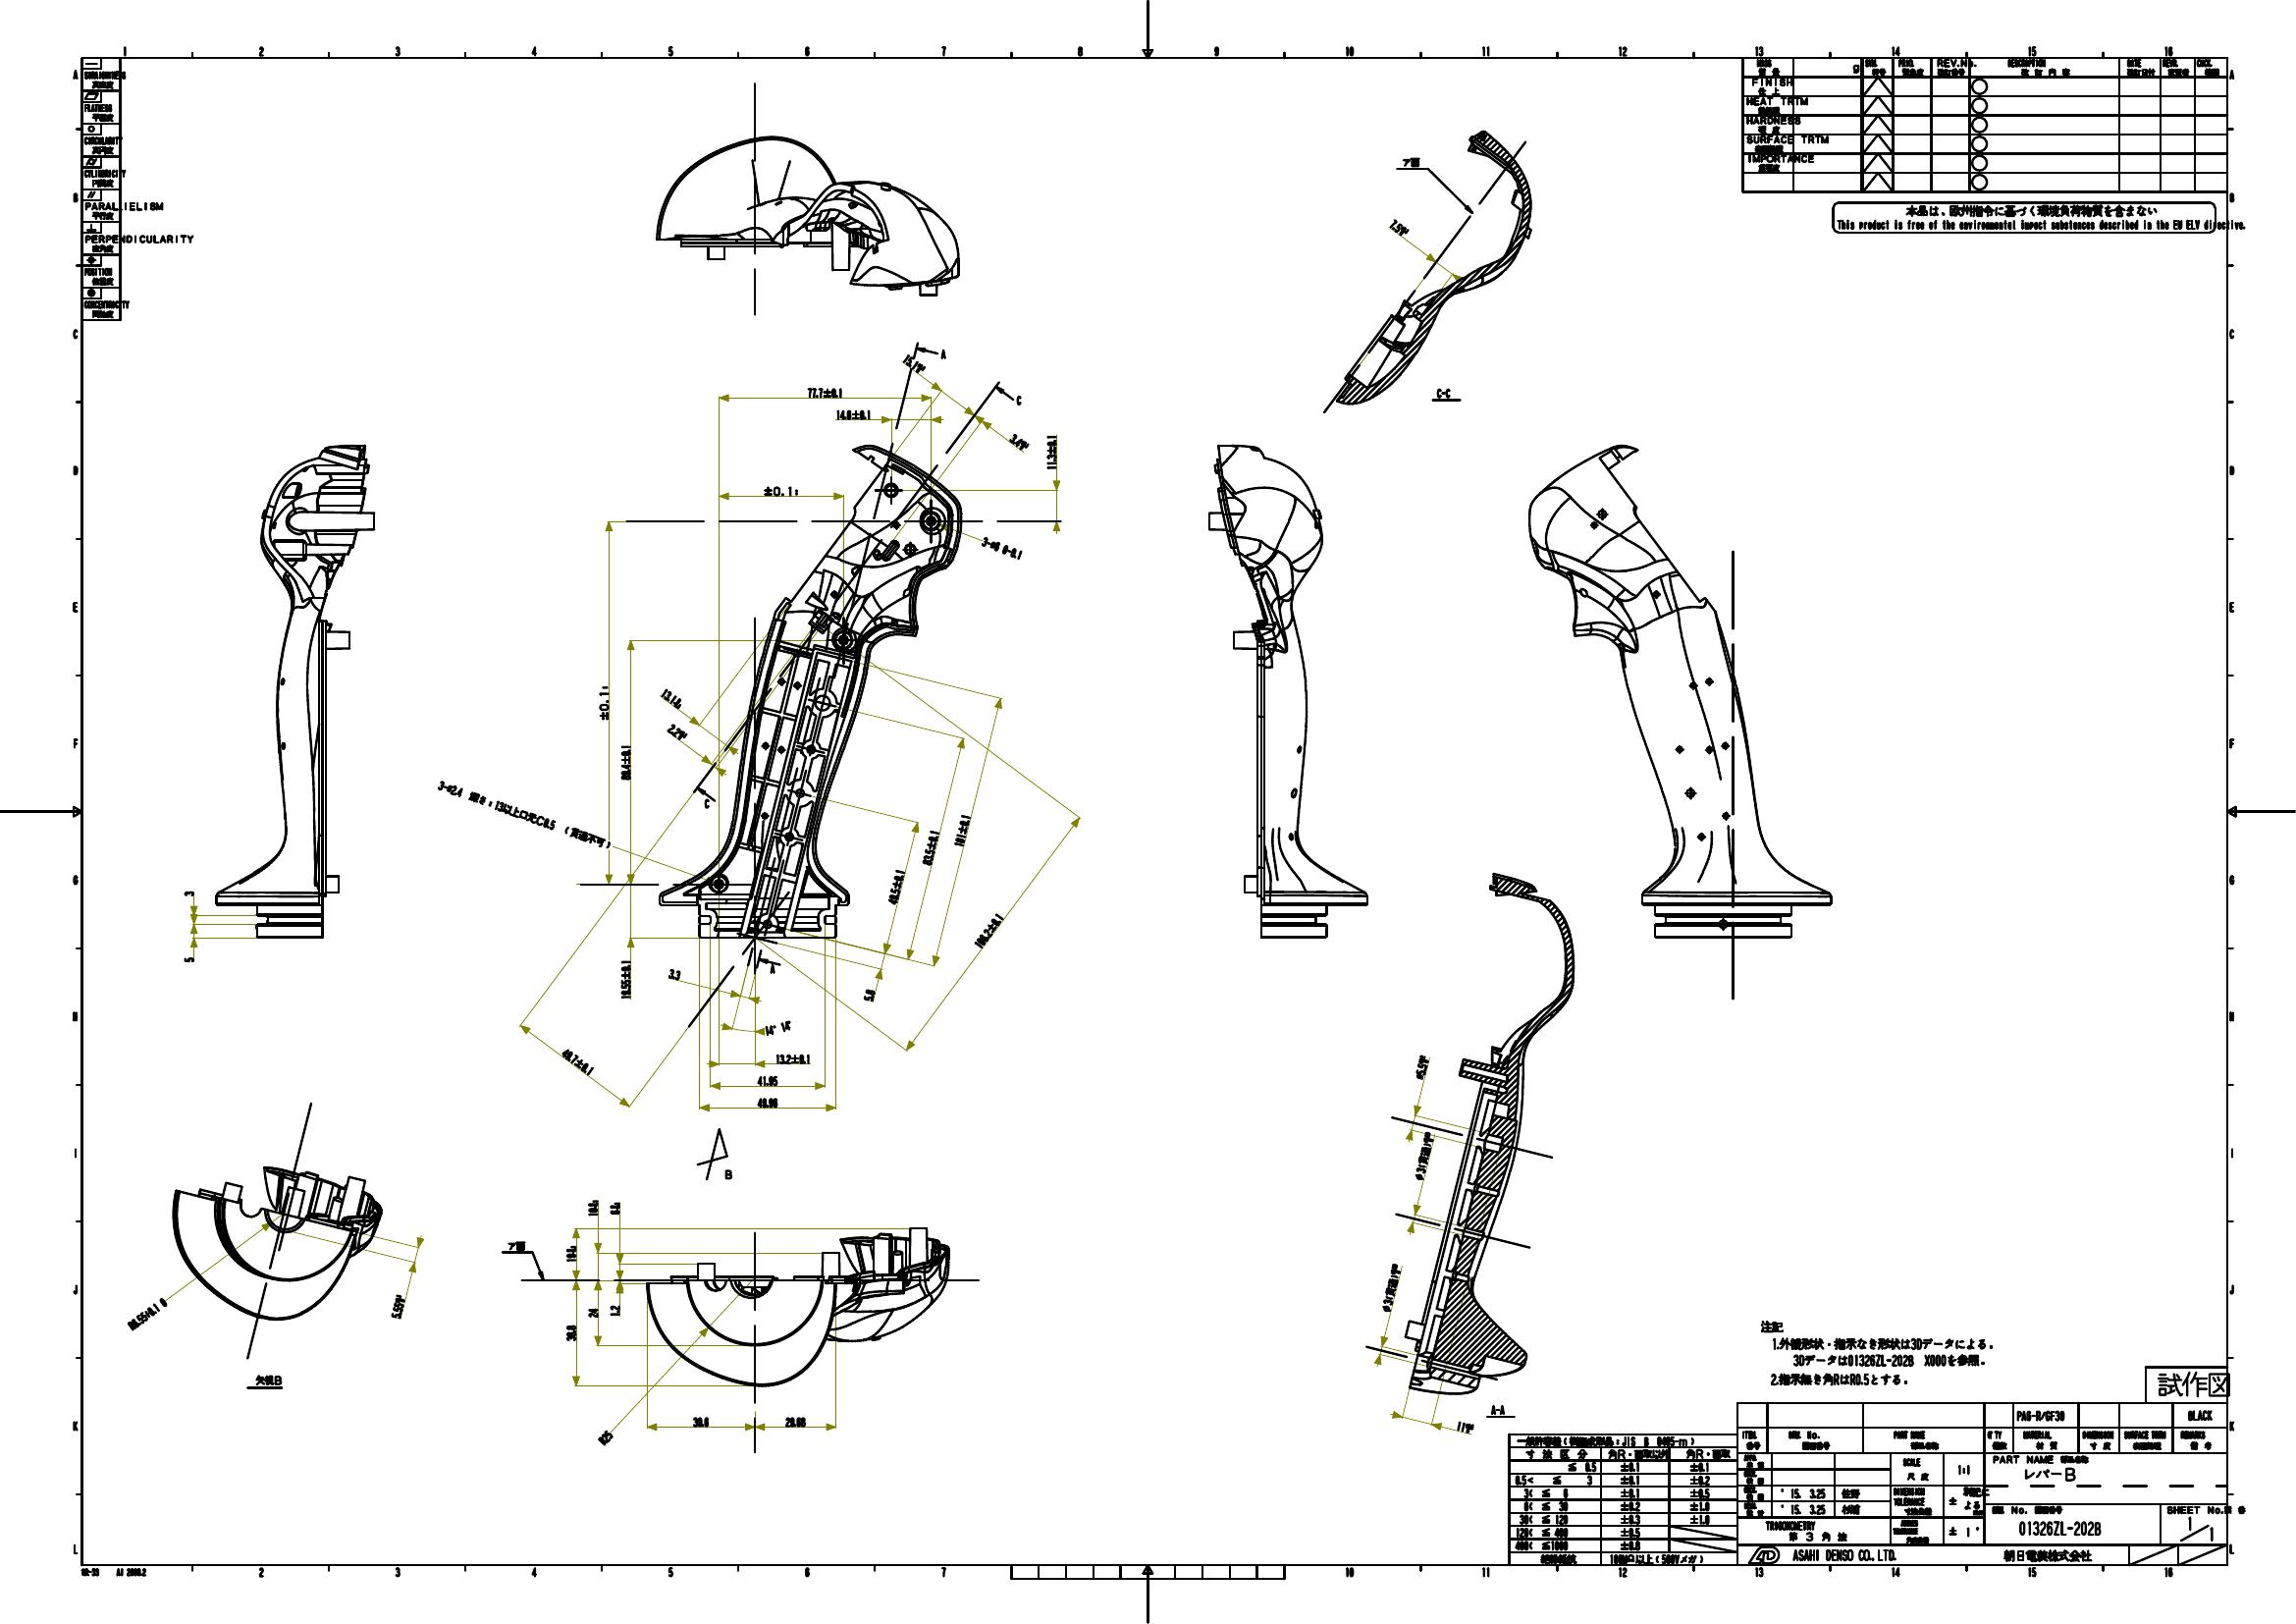anntotation_text: (1757, 1313, 1990, 1392), (1832, 202, 2217, 232), (2145, 1367, 2231, 1403), (79, 1564, 149, 1578), (564, 833, 611, 844), (253, 1374, 283, 1387), (1432, 387, 1455, 401), (1400, 156, 1421, 169), (504, 1241, 527, 1251), (1490, 1403, 1509, 1415), (938, 348, 950, 360), (722, 1167, 733, 1179), (766, 963, 778, 974), (1015, 392, 1022, 406), (703, 798, 711, 808)
dimension_text: (432, 798, 560, 810), (980, 541, 1024, 555), (617, 956, 631, 998), (1418, 1132, 1430, 1179), (617, 742, 631, 780), (761, 482, 799, 496), (1386, 1262, 1397, 1313), (836, 406, 873, 420), (125, 1308, 170, 1318), (596, 682, 608, 721), (555, 1056, 597, 1067), (805, 387, 847, 397), (970, 924, 1008, 935), (1045, 432, 1056, 471), (877, 881, 913, 891), (912, 842, 949, 852), (775, 1053, 810, 1063), (945, 824, 980, 835), (762, 1023, 792, 1033), (755, 1095, 778, 1107), (755, 1074, 780, 1084), (661, 692, 685, 703), (666, 726, 687, 738), (393, 1295, 404, 1320), (782, 1417, 806, 1427), (690, 1413, 708, 1427), (1007, 436, 1029, 446), (903, 359, 926, 369), (1416, 1055, 1426, 1077), (564, 1244, 576, 1264), (1456, 1422, 1476, 1434), (1390, 221, 1409, 234), (585, 1199, 597, 1216), (596, 1432, 613, 1445), (564, 1322, 574, 1341), (181, 884, 195, 898), (181, 949, 193, 965), (666, 968, 682, 979), (861, 990, 877, 1000), (587, 1304, 597, 1320), (608, 1302, 618, 1318), (608, 1200, 618, 1214)
object: (1527, 445, 1832, 939), (661, 445, 963, 939), (1404, 874, 1574, 1394), (1209, 445, 1368, 937), (216, 445, 374, 937), (1335, 130, 1534, 404), (655, 134, 959, 297), (646, 1229, 949, 1387), (172, 1165, 381, 1320)
title_block: (1509, 1403, 2226, 1566), (1743, 56, 2226, 192), (81, 56, 119, 320)
